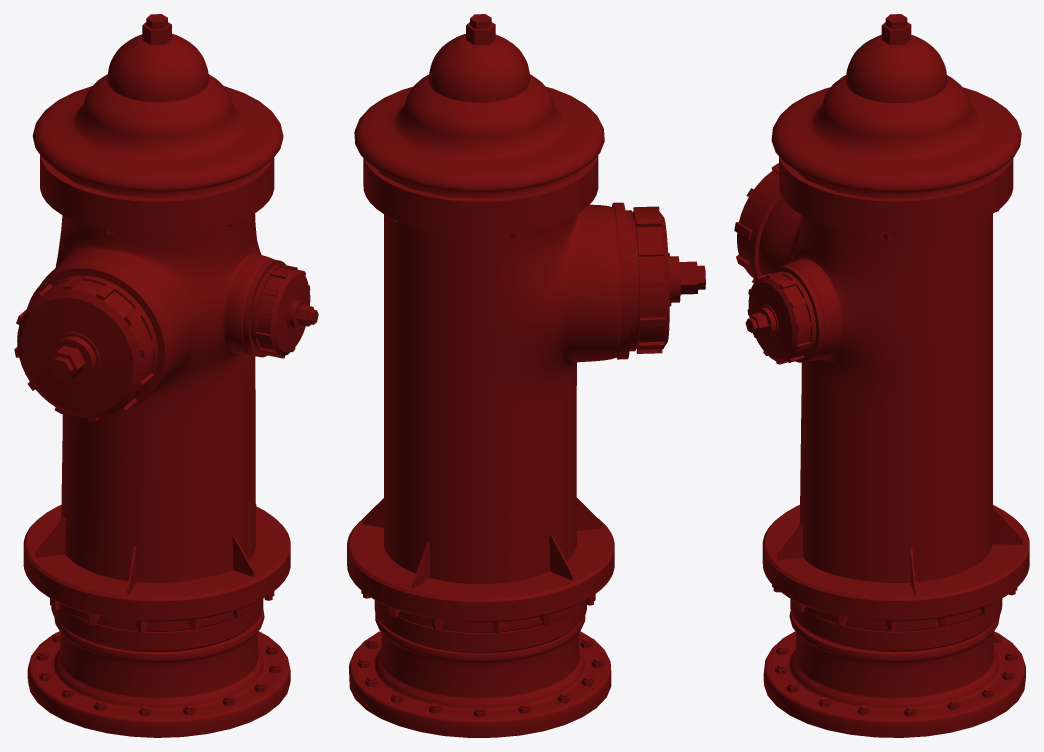
The model's file is 消防栓2.FBX.
3 views of the same model, side by side, from view 1: azimuth 30°, elevation 25°; view 2: azimuth 150°, elevation 25°; view 3: azimuth 270°, elevation 25° (orthographic).
Parts seen in each view (by area): view 1: 00151, 00102, 00103, 00150, 00146, 00140, 00149, 00138, 00147, 00109, 00107; view 2: 00151, 00102, 00103, 00146, 00140, 00150, 00138, 00147, 00109, 00107; view 3: 00151, 00102, 00103, 00146, 00140, 00149, 00138, 00150, 00147, 00109, 00106, 00104.
Boxes of the visible parts, box(x1,y1,x2,y2) form: 00151: box(40, 213, 274, 582); 00102: box(32, 33, 283, 198); 00103: box(27, 608, 290, 737); 00150: box(14, 264, 169, 421); 00146: box(23, 505, 290, 621); 00140: box(40, 155, 274, 235); 00149: box(243, 259, 318, 358); 00138: box(51, 599, 263, 651); 00147: box(59, 599, 261, 631); 00109: box(142, 14, 171, 45); 00107: box(35, 518, 66, 557); 00151: box(384, 204, 620, 583); 00102: box(354, 33, 604, 198); 00103: box(349, 612, 611, 737); 00146: box(347, 518, 614, 622); 00140: box(363, 155, 598, 235); 00150: box(612, 202, 705, 359); 00138: box(374, 600, 586, 653); 00147: box(376, 601, 584, 632); 00109: box(466, 14, 495, 45); 00107: box(549, 535, 573, 580); 00151: box(758, 197, 992, 582); 00102: box(771, 35, 1021, 198); 00103: box(763, 610, 1025, 737); 00146: box(762, 505, 1029, 621); 00140: box(779, 156, 1013, 235); 00149: box(745, 265, 824, 364); 00138: box(790, 598, 1002, 651); 00150: box(734, 163, 781, 282); 00147: box(792, 599, 1000, 631); 00109: box(881, 14, 911, 45); 00106: box(993, 508, 1022, 544); 00104: box(777, 522, 802, 560).
Bounding box in the file's own units: 2071 × 4664 × 1880.
